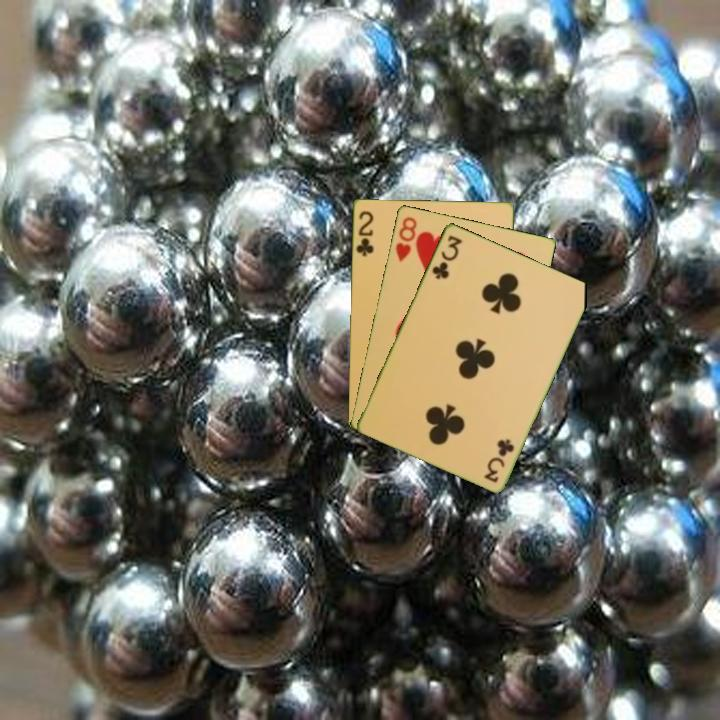2c: (352, 207, 376, 259)
3c: (428, 231, 465, 282), (481, 435, 517, 485)
8h: (392, 213, 419, 264)
